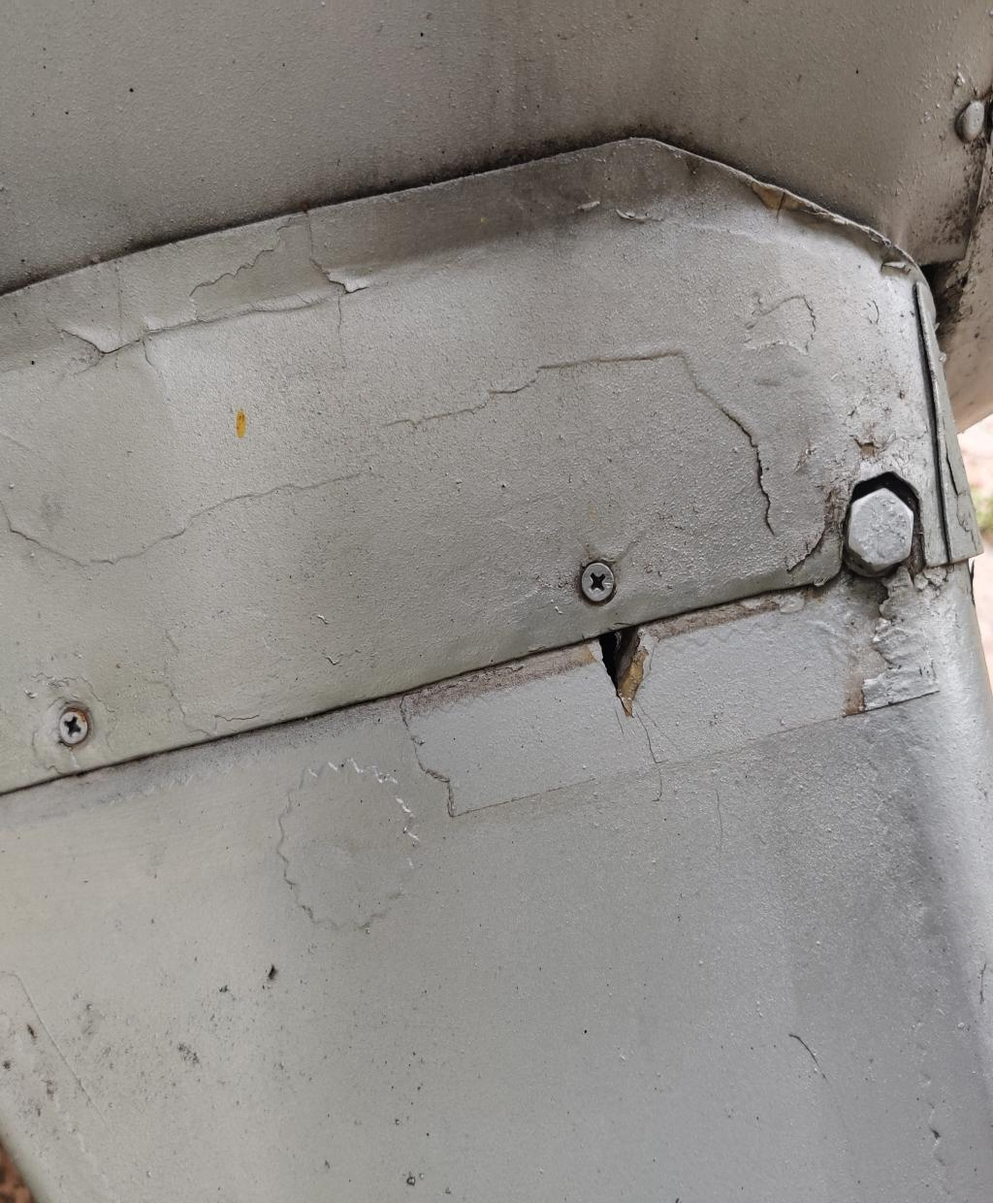crack: (569, 594, 685, 750)
